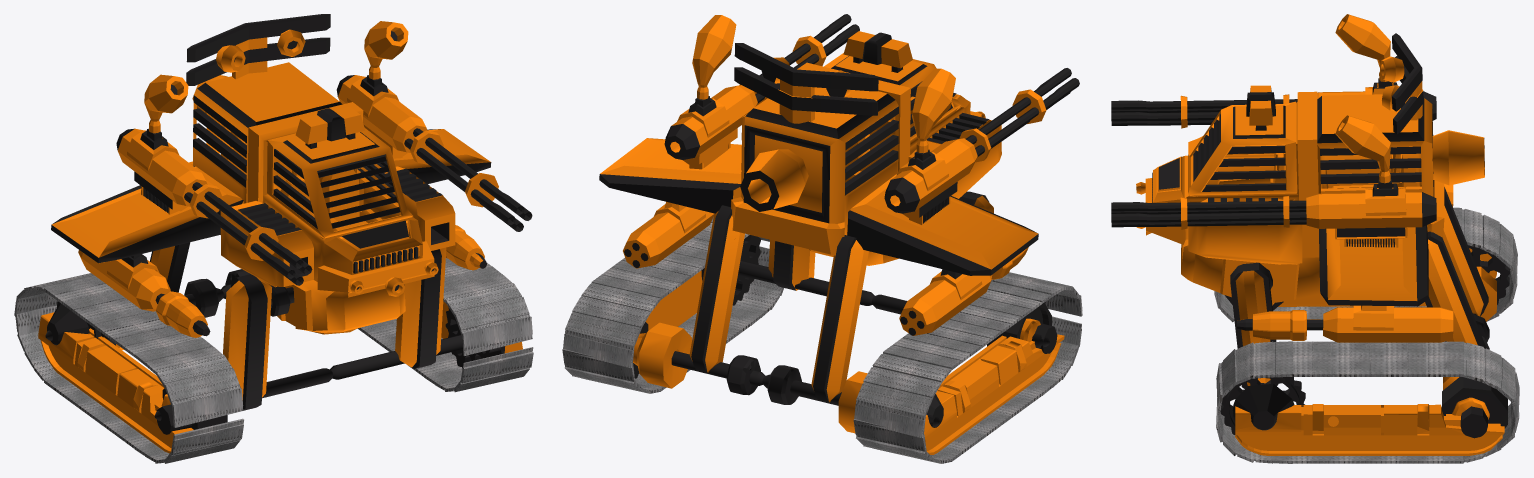
File: SIde Belt.FBX
3 views of the same model, side by side, from view 1: azimuth 30°, elevation 25°; view 2: azimuth 150°, elevation 25°; view 3: azimuth 270°, elevation 25° (orthographic). The views are drawn at different scales.
Visible parts, largest first — view 1: Mech Robot, Side Belts, Right Gun, Left Gun, Right Missile, Left Missile; view 2: Mech Robot, Side Belts, Right Gun, Left Gun, Right Missile, Left Missile; view 3: Mech Robot, Side Belts, Left Gun, Left Missile, Right Gun.
Part boxes in pixels (left/top/right/bottom): Mech Robot: left=38, top=14, right=522, bottom=453; Side Belts: left=14, top=258, right=533, bottom=463; Right Gun: left=116, top=74, right=312, bottom=285; Left Gun: left=336, top=21, right=532, bottom=231; Right Missile: left=78, top=250, right=210, bottom=337; Left Missile: left=446, top=225, right=486, bottom=270; Mech Robot: left=599, top=31, right=1064, bottom=454; Side Belts: left=562, top=217, right=1082, bottom=463; Right Gun: left=884, top=68, right=1079, bottom=213; Left Gun: left=664, top=14, right=859, bottom=159; Right Missile: left=899, top=247, right=1028, bottom=335; Left Missile: left=623, top=201, right=714, bottom=268; Mech Robot: left=1136, top=33, right=1509, bottom=455; Side Belts: left=1214, top=207, right=1519, bottom=463; Left Gun: left=1111, top=115, right=1436, bottom=229; Left Missile: left=1237, top=305, right=1453, bottom=342; Right Gun: left=1111, top=14, right=1436, bottom=128.
Bounding box in the file's own units: 15843 × 12928 × 15147.
Materials: 3 (3 with a texture image).
